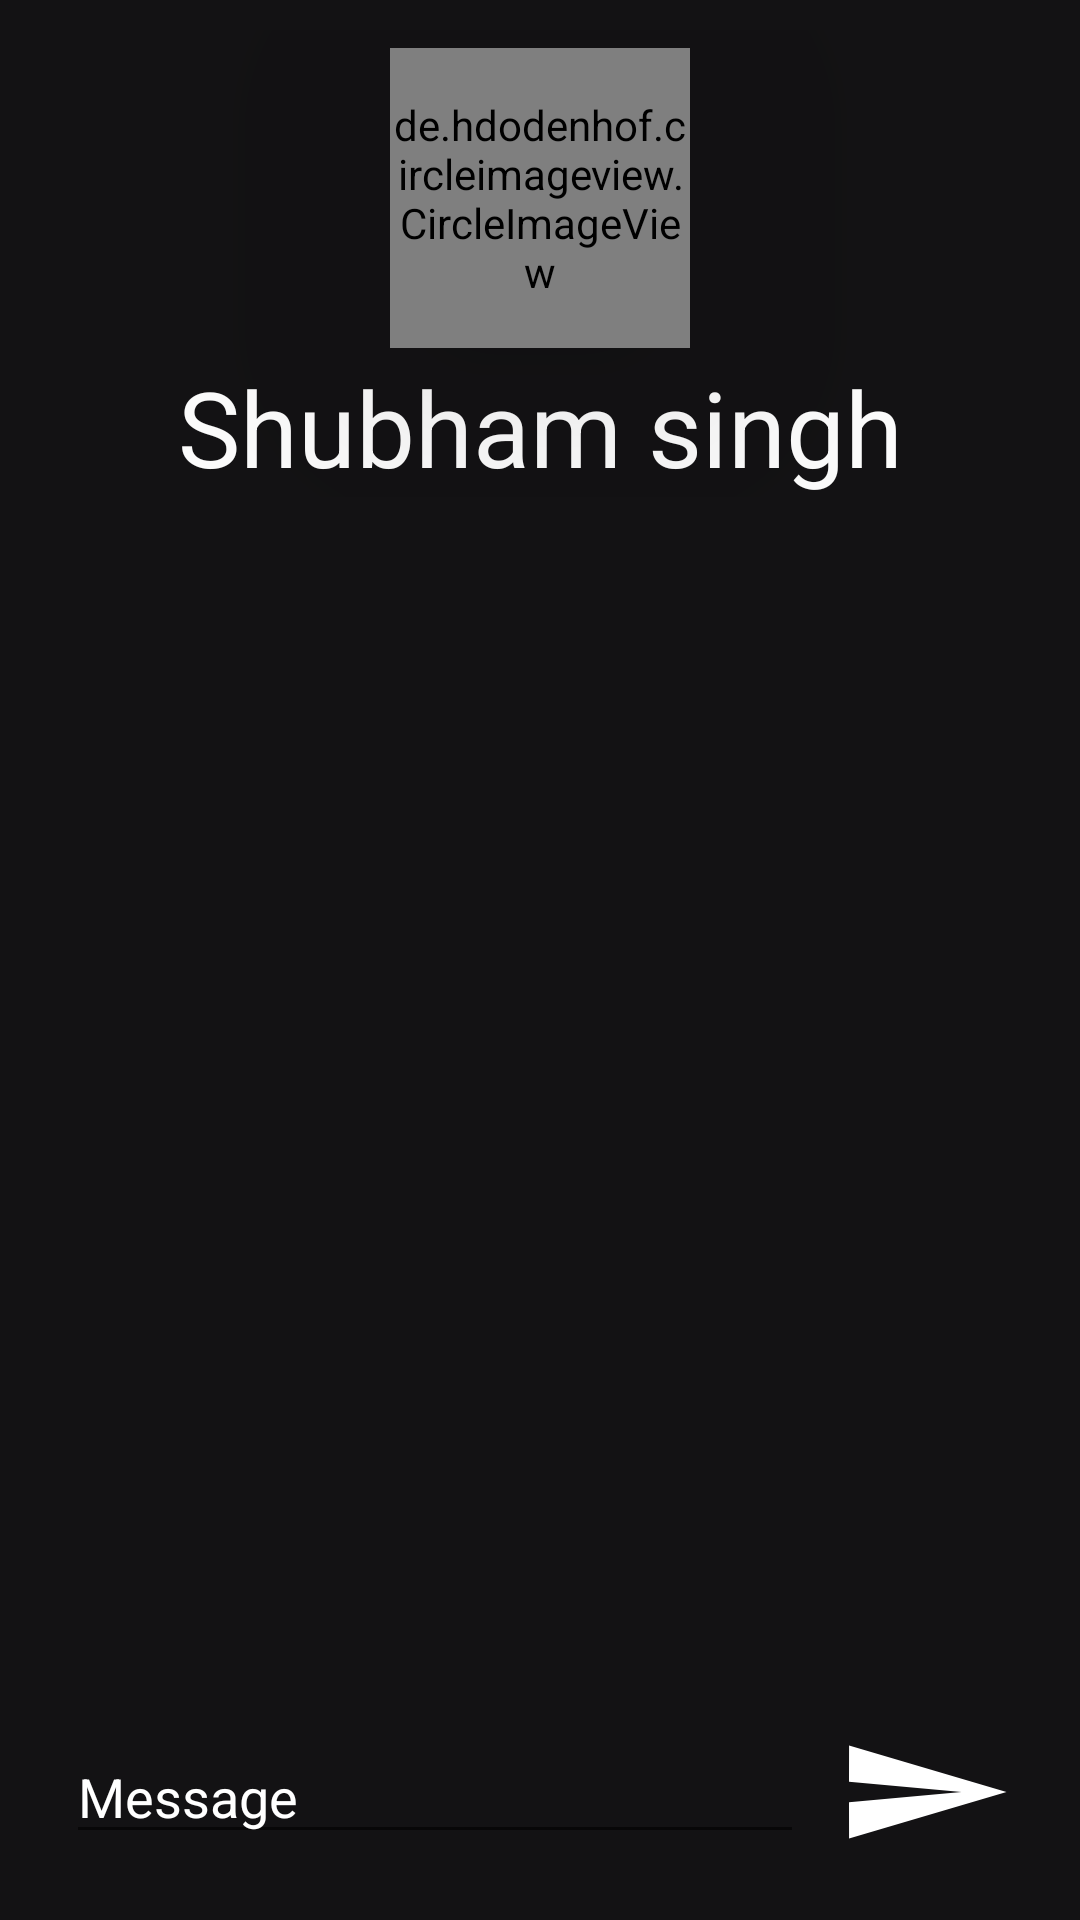

Screen size 1080w x 1920h. Icon name, then its center in pixels as (x,y):
sendimg: (927,1792)
